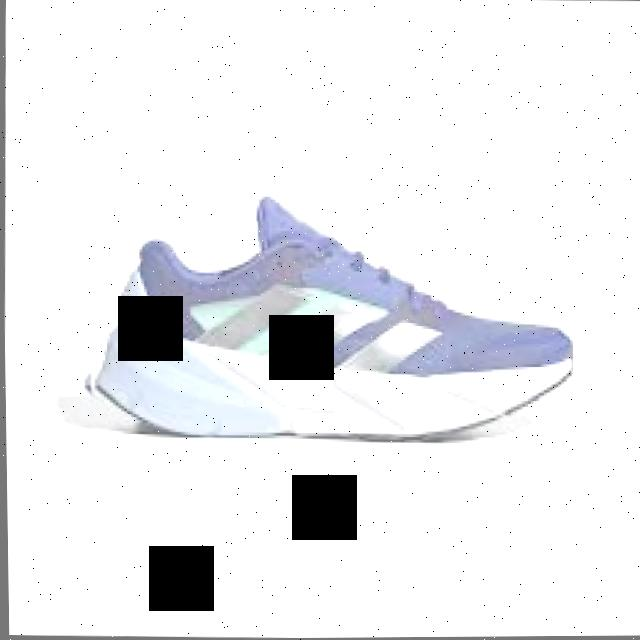shoe: (76, 188, 575, 453)
